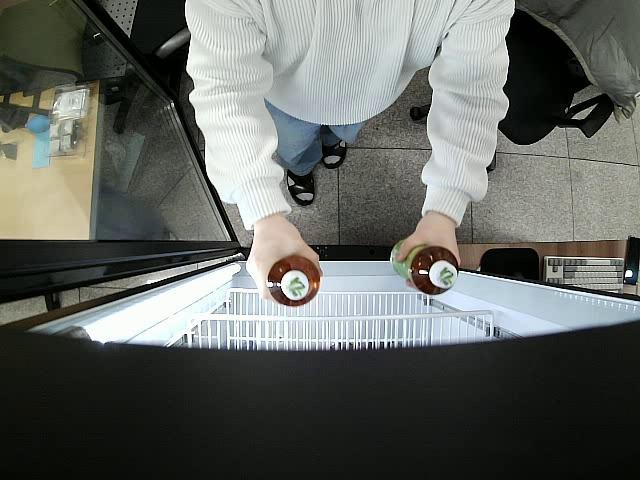19_17cha: (392, 242, 458, 296), (266, 255, 320, 305)
